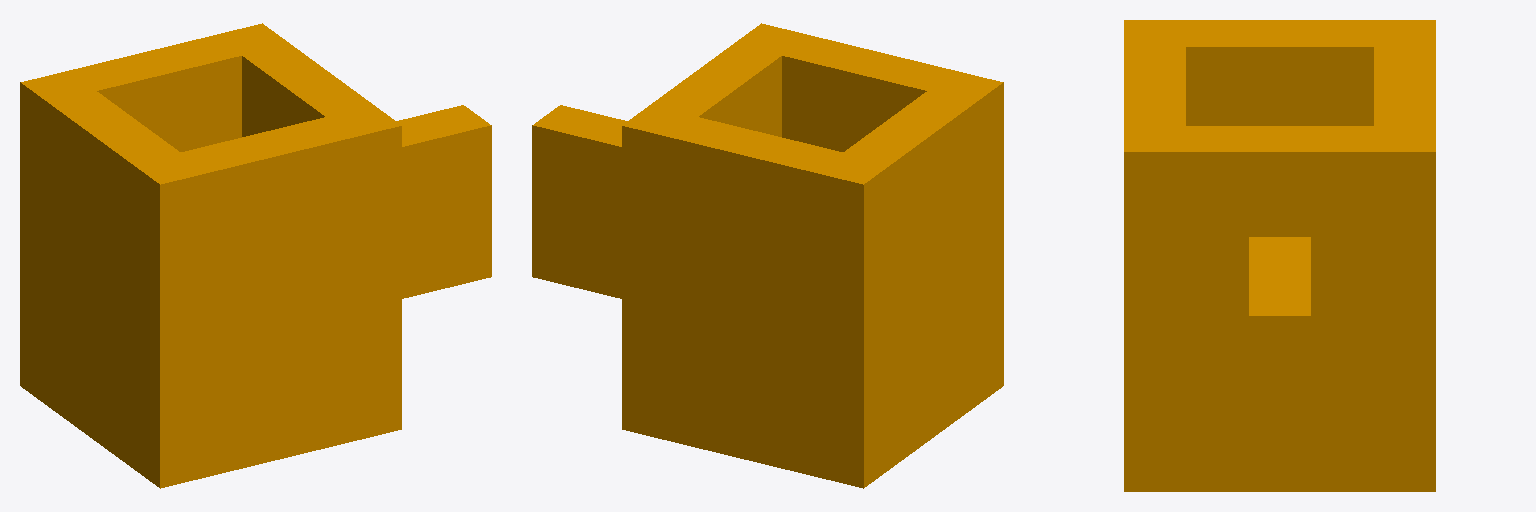
The robot description file, URDF, robot "cup":
<!-- the origin is at the center of cup (ignoring the handle) -->
<robot name="cup">
    <link name="cup_body">
        <!-- Base -->
        <visual>
            <geometry>
                <box size="0.5 0.5 0.1"/>
            </geometry>
            <origin xyz="0 0 -0.25"/>
        </visual>
        <collision>
            <geometry>
                <box size="0.5 0.5 0.1"/>
            </geometry>
            <origin xyz="0 0 -0.25"/>
        </collision>

        <!-- Wall1 -->
        <visual>
            <geometry>
                <box size="0.5 0.1 0.6"/>
            </geometry>
            <origin xyz="0 -0.2 0"/>
        </visual>
        <collision>
            <geometry>
                <box size="0.5 0.1 0.6"/>
            </geometry>
            <origin xyz="0 -0.2 -0"/>
        </collision>

        <!-- Wall2 -->
        <visual>
            <geometry>
                <box size="0.5 0.1 0.6"/>
            </geometry>
            <origin xyz="0 0.2 -0"/>
        </visual>
        <collision>
            <geometry>
                <box size="0.5 0.1 0.6"/>
            </geometry>
            <origin xyz="0 0.2 -0"/>
        </collision>

        <!-- Wall3 -->
        <visual>
            <geometry>
                <box size="0.1 0.5 0.6"/>
            </geometry>
            <origin xyz="-0.2 0 -0"/>
        </visual>
        <collision>
            <geometry>
                <box size="0.1 0.5 0.6"/>
            </geometry>
            <origin xyz="-0.2 0 -0"/>
        </collision>

        <!-- Wall4 -->
        <visual>
            <geometry>
                <box size="0.1 0.5 0.6"/>
            </geometry>
            <origin xyz="0.2 0 -0"/>
        </visual>
        <collision>
            <geometry>
                <box size="0.1 0.5 0.6"/>
            </geometry>
            <origin xyz="0.2 0 -0"/>
        </collision>

        <!-- Handle -->
        <visual>
            <geometry>
                <box size="0.3 0.1 0.3"/>
            </geometry>
            <origin xyz="0.4 0 0"/>
        </visual>
        <collision>
            <geometry>
                <box size="0.3 0.1 0.3"/>
            </geometry>
            <origin xyz="0.4 0 0"/>
        </collision>
    </link>
</robot>

--- Facts derived from the render (not from the file) ---
3 views of the same robot in one strip: view 1: azimuth 30°, elevation 25°; view 2: azimuth 150°, elevation 25°; view 3: azimuth 270°, elevation 25° (orthographic).
Robot: cup — 1 links, 0 joints (none); root link cup_body; default pose: all joints at 0.
Links seen in each view (by area): view 1: cup_body; view 2: cup_body; view 3: cup_body.
Link boxes in pixels (bbox=[...]): cup_body: bbox=[20, 23, 491, 488]; cup_body: bbox=[532, 23, 1003, 488]; cup_body: bbox=[1124, 20, 1435, 491].
Bounding box of the posed robot: 0.8 × 0.5 × 0.6 m (x, y, z).
Geometry: primitives only (box / cylinder / sphere), no mesh files.